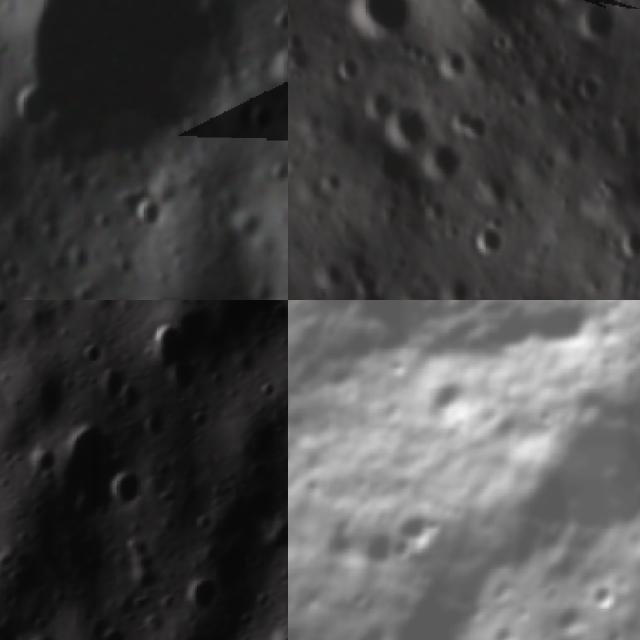crater: (9, 0, 235, 188), (388, 300, 640, 361), (36, 414, 109, 513), (416, 353, 494, 433), (148, 301, 213, 385), (383, 484, 457, 556), (578, 568, 639, 628), (545, 589, 611, 640), (176, 567, 238, 620), (340, 0, 414, 44), (90, 368, 148, 413), (222, 204, 271, 251), (96, 463, 142, 512), (378, 105, 429, 149), (418, 140, 464, 186), (11, 89, 56, 134), (125, 193, 165, 239), (580, 3, 616, 45), (241, 104, 278, 144), (468, 222, 504, 262), (30, 217, 69, 253), (359, 85, 395, 122), (448, 0, 519, 18), (0, 255, 30, 292), (572, 70, 606, 102), (288, 323, 305, 386), (263, 158, 288, 198), (615, 223, 640, 260), (330, 53, 361, 82), (95, 621, 138, 640), (350, 289, 391, 300), (506, 89, 528, 109)
